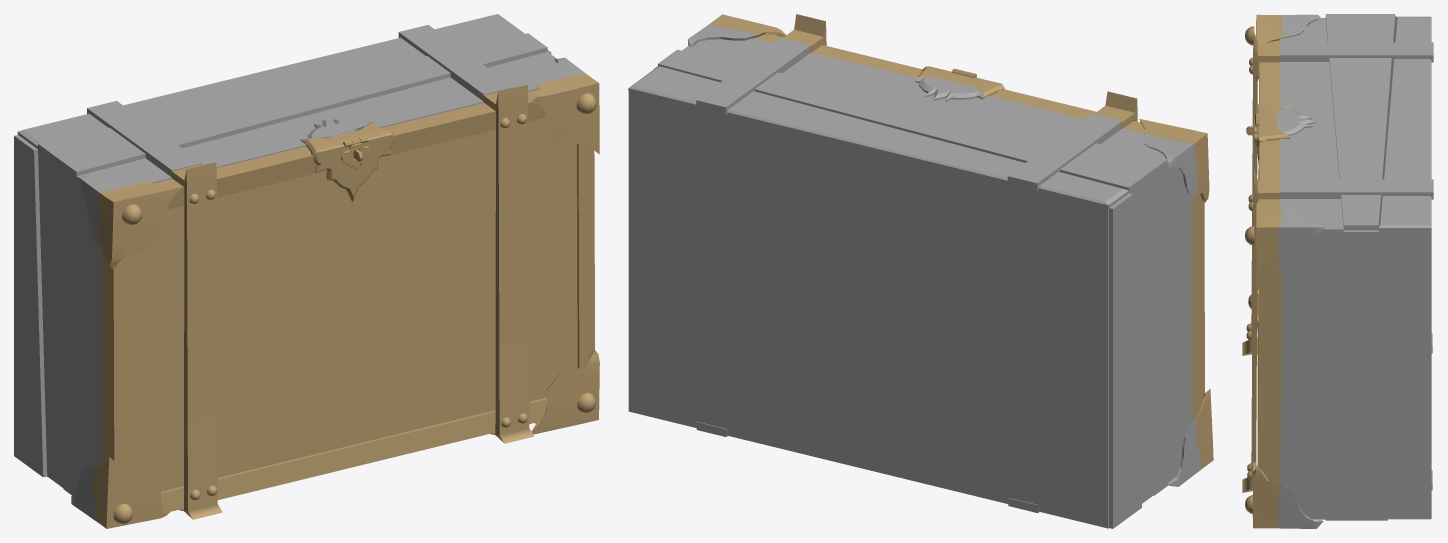
The model's file is Weapons_Box.fbx.
3 renders of one model, left to right at view 1: azimuth 30°, elevation 25°; view 2: azimuth 150°, elevation 25°; view 3: azimuth 270°, elevation 25°, orthographic. The views are drawn at different scales.
Parts seen in each view (by area): view 1: Lid, OuterBox, large_detailing, detailing01; view 2: OuterBox, Lid, detailing01, large_detailing; view 3: OuterBox, Lid, large_detailing, detailing01.
Boxes of the visible parts, x1,y1,x2,y2 form: Lid: (93,73,599,528); OuterBox: (14,14,584,520); large_detailing: (300,122,393,201); detailing01: (301,119,371,140); OuterBox: (628,24,1201,528); Lid: (709,14,1213,468); detailing01: (914,76,983,102); large_detailing: (912,66,1004,99); OuterBox: (1278,14,1433,528); Lid: (1242,14,1282,528); large_detailing: (1256,104,1290,171); detailing01: (1276,106,1315,136).
Size of the model in its own units: 137 by 93.51 by 51.16.
